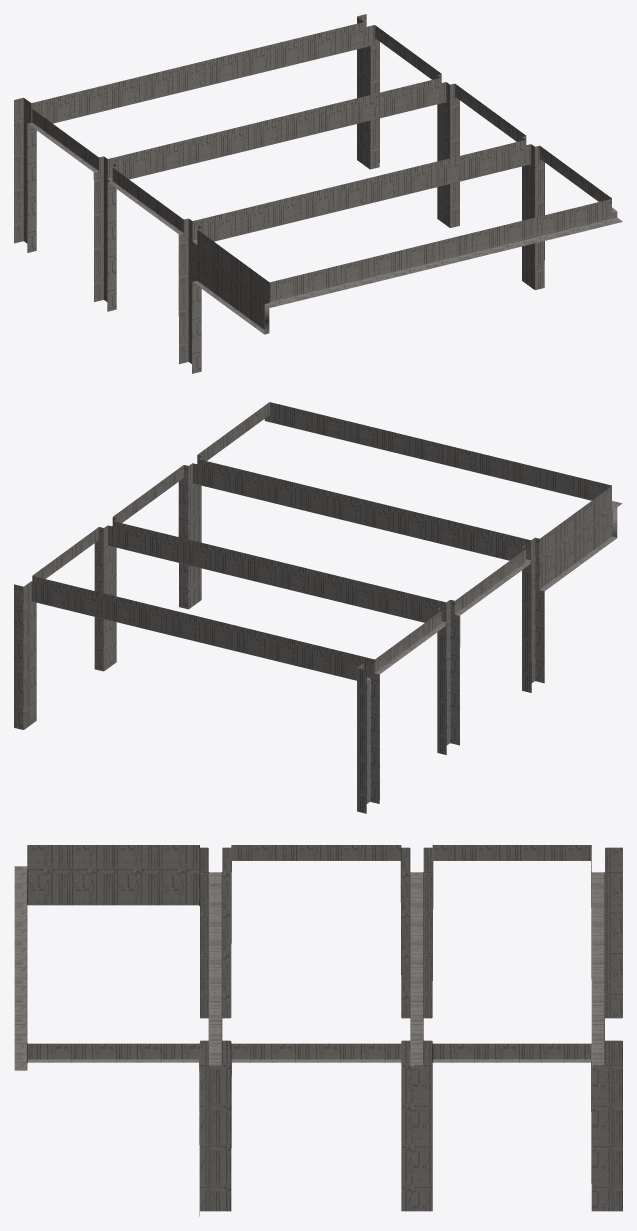
Rendered from Columnas nuevo uv.fbx.
3 renders of one model, top to bottom at view 1: azimuth 30°, elevation 25°; view 2: azimuth 150°, elevation 25°; view 3: azimuth 270°, elevation 25°, orthographic. The views are drawn at different scales.
Parts seen in each view (by area): view 1: Box035; view 2: Box035; view 3: Box035.
Boxes of the visible parts, left/top/right/bottom form: Box035: left=14, top=14, right=622, bottom=373; Box035: left=14, top=402, right=622, bottom=813; Box035: left=14, top=845, right=622, bottom=1216.
Size of the model in its own units: 1080 by 420 by 1360.
